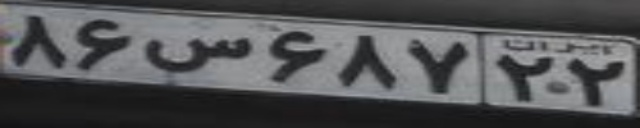2: (562, 57, 625, 107), (495, 54, 556, 101)
6: (263, 30, 328, 83), (73, 18, 131, 69)
7: (406, 38, 469, 94)
8: (337, 33, 396, 89), (7, 14, 65, 69)
sin: (145, 34, 251, 71)
